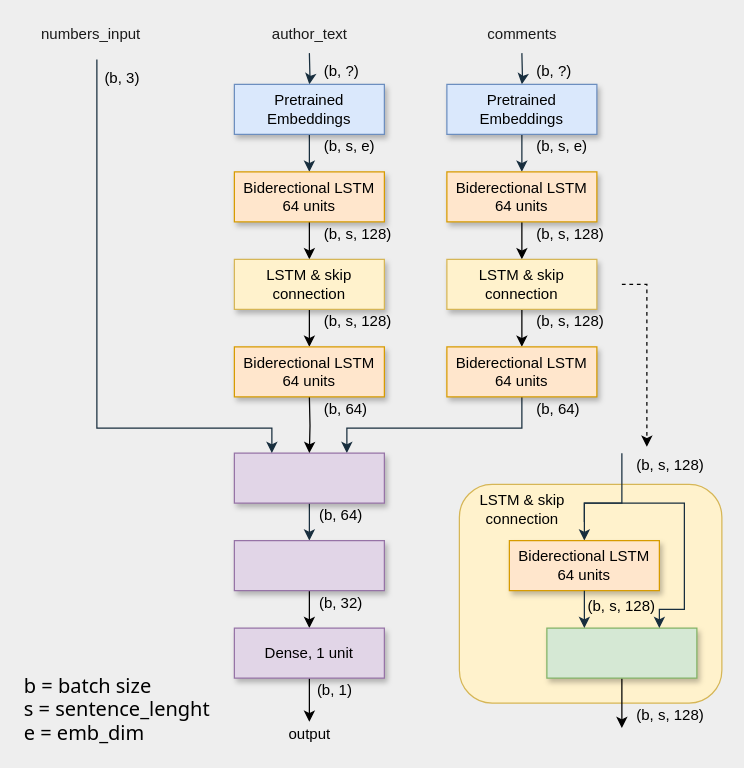
Some shapes in this 744 by 768 pixel diagram are drawn without their labels. The centre of each missing label's shape, as x and y in pixels:
"Add & Layer Normalization" goes at [622,654].
"Dense, 32 units Dropout 20%" goes at [310,566].
"Dense, 64 units Dropout 20%" goes at [310,479].
